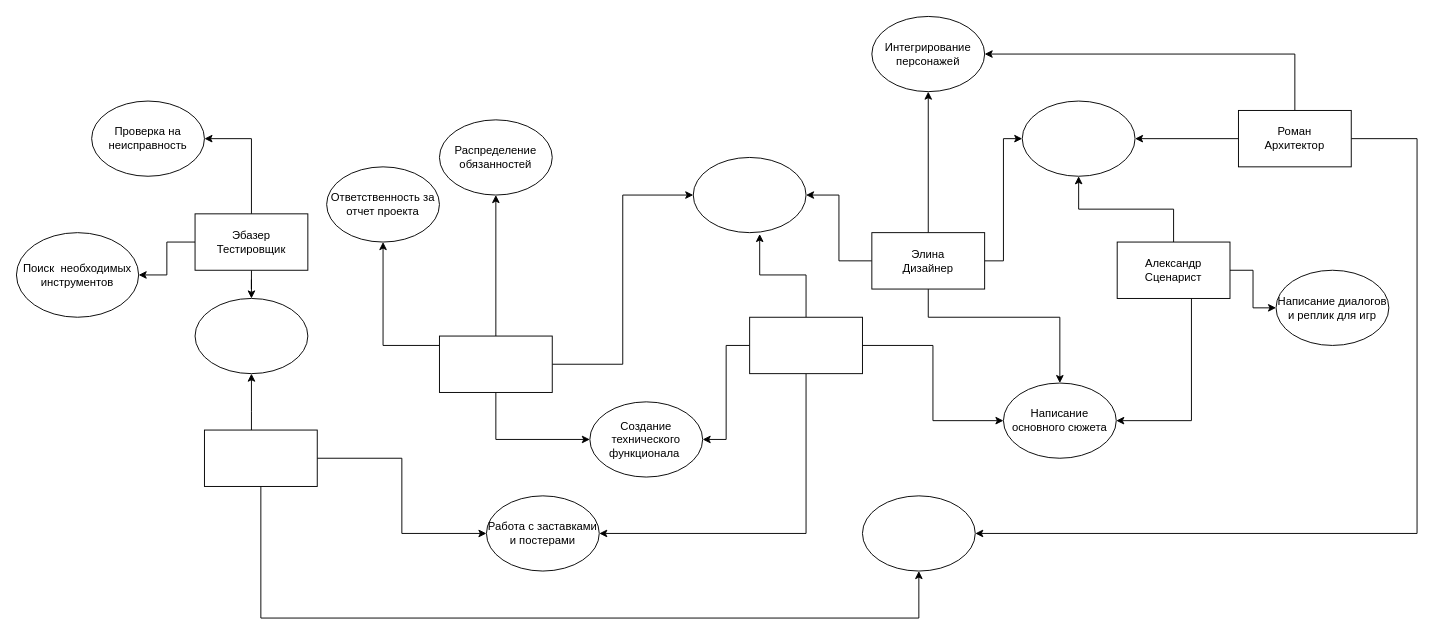
Some shapes in this 1441 by 642 pixel diagram are drawn without their labels. Here are the shapes that lost their labels. From the top down, the centre of each, then its label:
At (x=1078, y=138): "Идейный креатор".
At (x=749, y=195): "Поддержание командного духа".
At (x=251, y=336): "Звуковое сопровождение".
At (x=805, y=345): "Денис BackEnd Разработка".
At (x=495, y=363): "Ян Харлан Руководитель".
At (x=260, y=457): "Артем FrontEnd Разработка".
At (x=918, y=533): "Технический дизайн".
